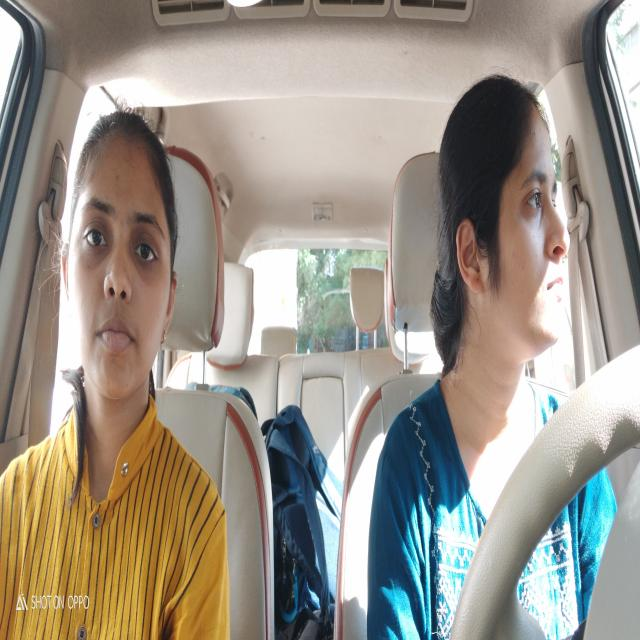LeftRight: (438, 84, 572, 353)
person: (67, 125, 179, 407)
